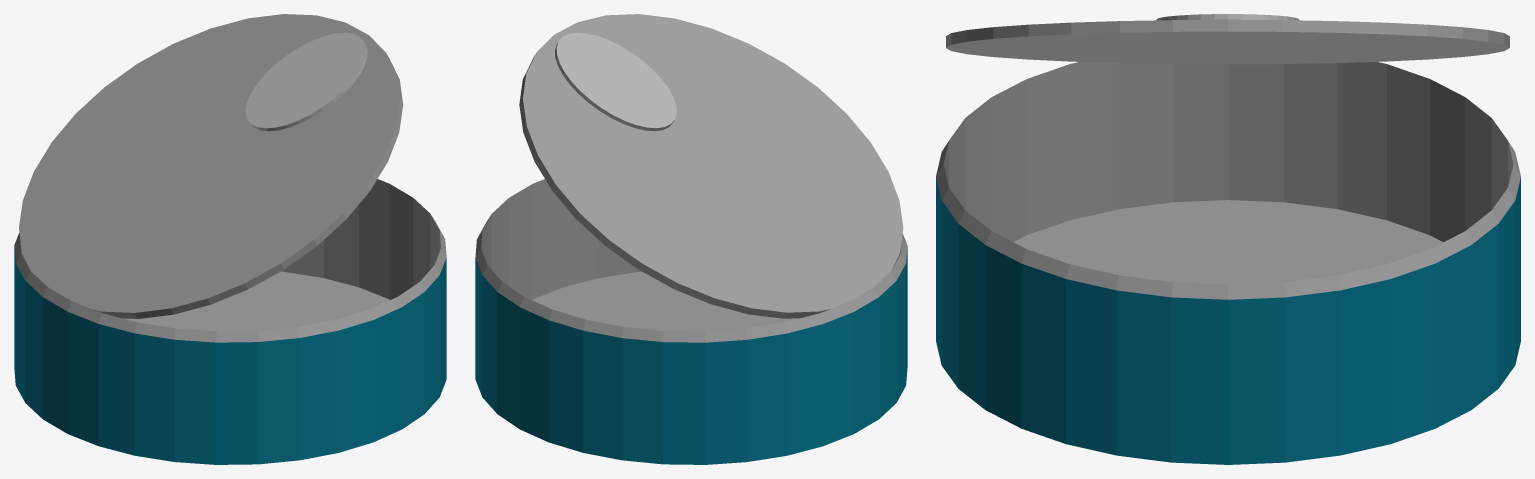
The model's file is tunaCan.dae.
3 views of the same model, side by side, from view 1: azimuth 30°, elevation 25°; view 2: azimuth 150°, elevation 25°; view 3: azimuth 270°, elevation 25° (orthographic). The views are drawn at different scales.
Visible parts, largest first — view 1: tunaCan; view 2: tunaCan; view 3: tunaCan.
Part boxes in pixels (left/top/right/bottom): tunaCan: left=14, top=14, right=446, bottom=464; tunaCan: left=475, top=14, right=907, bottom=464; tunaCan: left=936, top=14, right=1520, bottom=464.
Size of the model in its own units: 2 by 1.56 by 2.
